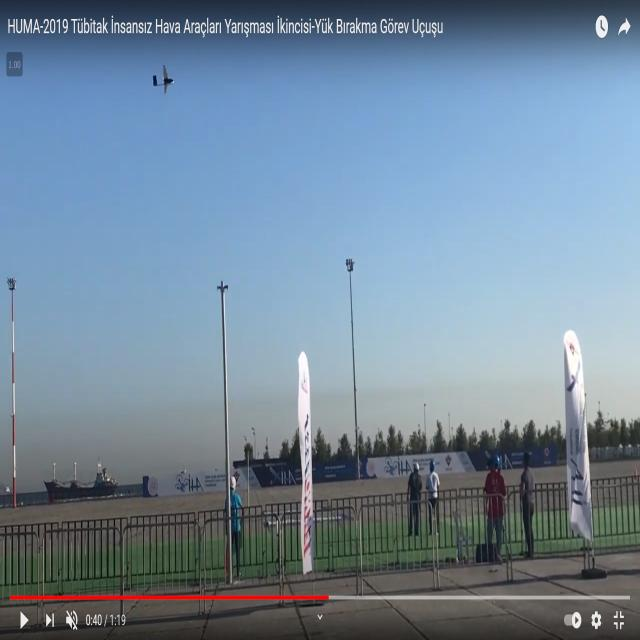iha: (152, 1, 174, 32)
